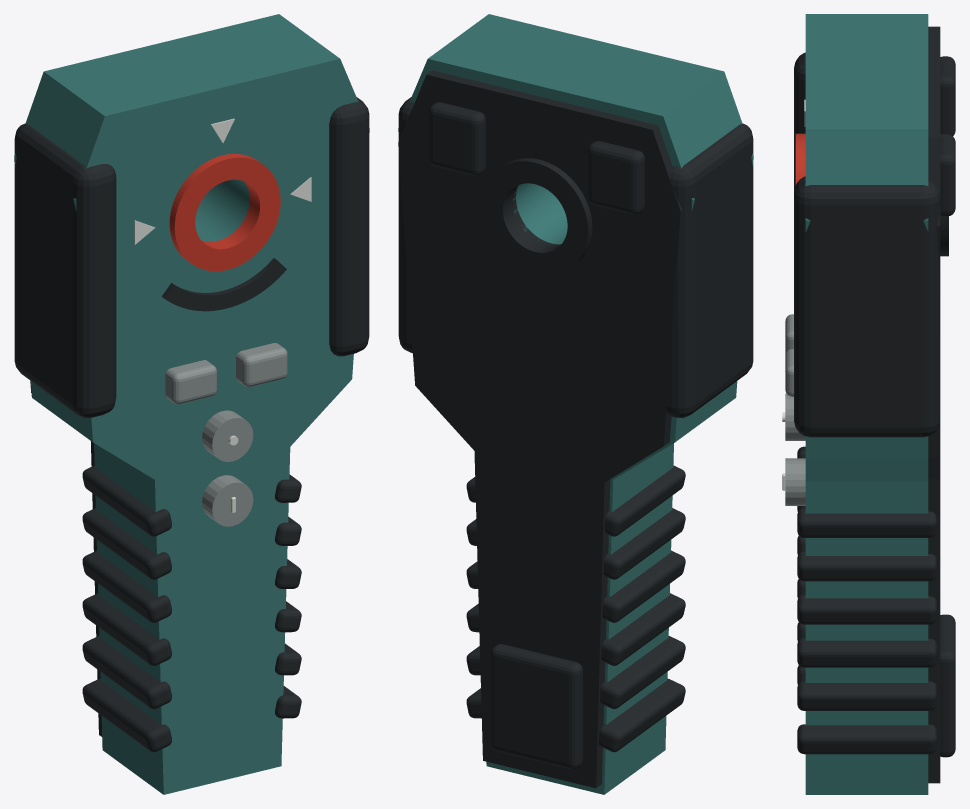
File: A-NEW-20261026-WALL-SCANNER-001_LOD0_R1.fbx
The picture shows the model from 3 angles, left to right: view 1: azimuth 30°, elevation 25°; view 2: azimuth 150°, elevation 25°; view 3: azimuth 270°, elevation 25°; orthographic projection.
Visible parts, largest first — view 1: wide head and narrow grip closed shell, head side bumper, head side bumper.001, red through marking rim, diagonal grip rib, diagonal grip rib.002, diagonal grip rib.004, diagonal grip rib.006, diagonal grip rib.008, inactive curved indicator, diagonal grip rib.010, round speaker button (+5 smaller); view 2: generic closed rear contact cover, wide head and narrow grip closed shell, head side bumper, rear lower contact pad, rear hole support rim, rear upper contact pad, rear upper contact pad.001, diagonal grip rib, diagonal grip rib.002, diagonal grip rib.004, diagonal grip rib.006, diagonal grip rib.008 (+2 smaller); view 3: wide head and narrow grip closed shell, head side bumper.001, generic closed rear contact cover, diagonal grip rib.001, diagonal grip rib.005, diagonal grip rib.003, diagonal grip rib.007, diagonal grip rib.009, diagonal grip rib.011, rear lower contact pad, rear upper contact pad.001, rear upper contact pad (+6 smaller).
Boxes of the visible parts, x1,y1,x2,y2 form: wide head and narrow grip closed shell: (14, 14, 369, 794); head side bumper: (14, 123, 116, 417); head side bumper.001: (329, 97, 369, 356); red through marking rim: (169, 153, 280, 271); diagonal grip rib: (82, 678, 171, 752); diagonal grip rib.002: (82, 636, 171, 708); diagonal grip rib.004: (82, 593, 171, 665); diagonal grip rib.006: (82, 550, 171, 622); diagonal grip rib.008: (82, 508, 171, 579); inactive curved indicator: (162, 258, 286, 311); diagonal grip rib.010: (82, 465, 171, 536); round speaker button: (202, 410, 253, 461); generic closed rear contact cover: (398, 70, 682, 788); wide head and narrow grip closed shell: (398, 14, 753, 794); head side bumper: (666, 123, 753, 417); rear lower contact pad: (490, 644, 582, 769); rear hole support rim: (482, 158, 592, 274); rear upper contact pad: (588, 141, 644, 214); rear upper contact pad.001: (429, 102, 485, 175); diagonal grip rib: (599, 678, 685, 752); diagonal grip rib.002: (600, 636, 685, 708); diagonal grip rib.004: (601, 593, 685, 665); diagonal grip rib.006: (602, 550, 685, 622); diagonal grip rib.008: (603, 508, 685, 579); wide head and narrow grip closed shell: (805, 14, 928, 794); head side bumper.001: (794, 176, 940, 437); generic closed rear contact cover: (928, 26, 940, 783); diagonal grip rib.001: (797, 724, 936, 754); diagonal grip rib.005: (797, 637, 936, 667); diagonal grip rib.003: (797, 681, 936, 710); diagonal grip rib.007: (797, 594, 936, 624); diagonal grip rib.009: (797, 551, 936, 581); diagonal grip rib.011: (797, 508, 936, 537); rear lower contact pad: (940, 614, 955, 757); rear upper contact pad.001: (940, 134, 955, 216); rear upper contact pad: (940, 56, 955, 135).
Size of the model in its own units: 10 by 22.5 by 5.09.
